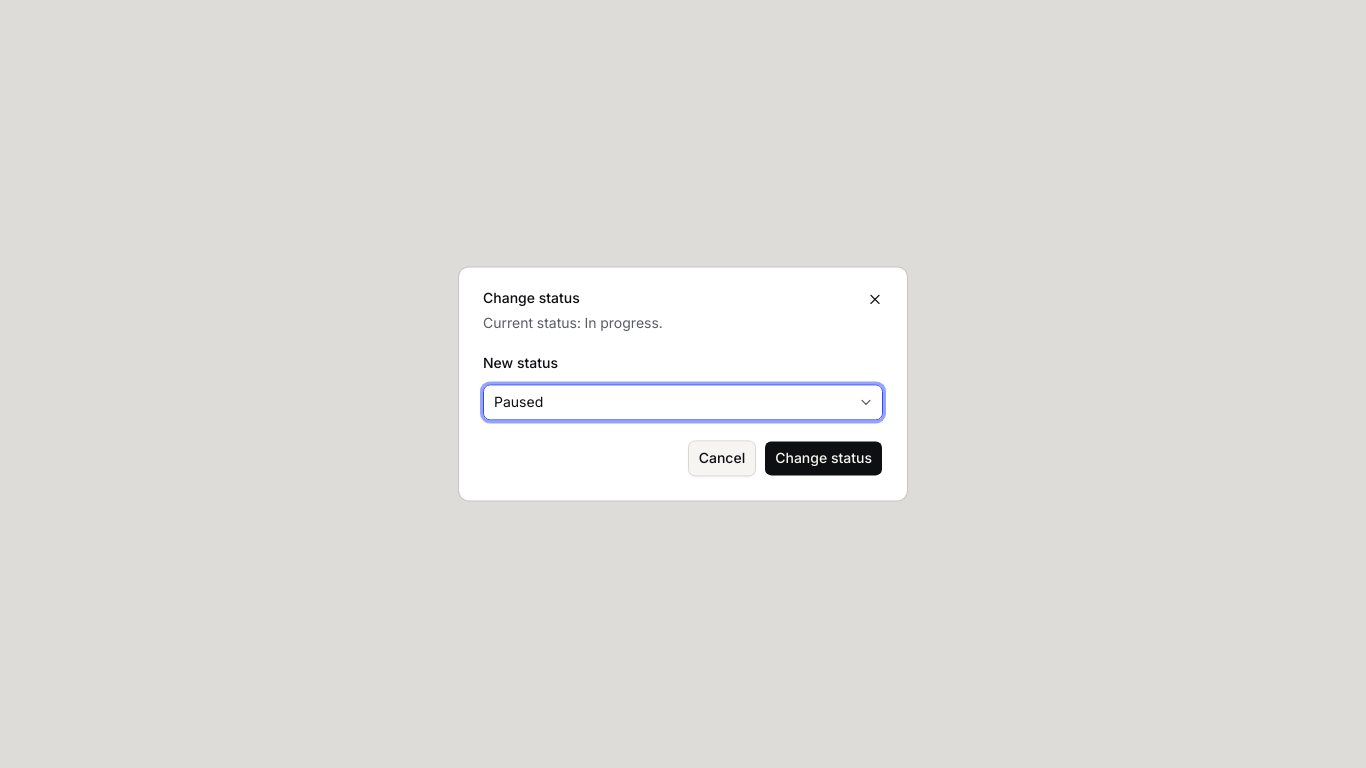
it: ProjectTransitionDialog (HU-08) › requires the actual delivery date to move to Delivered (CA2)
Click the dropdown. click: {"x": 519, "y": 402}
box: [483,385,883,421]
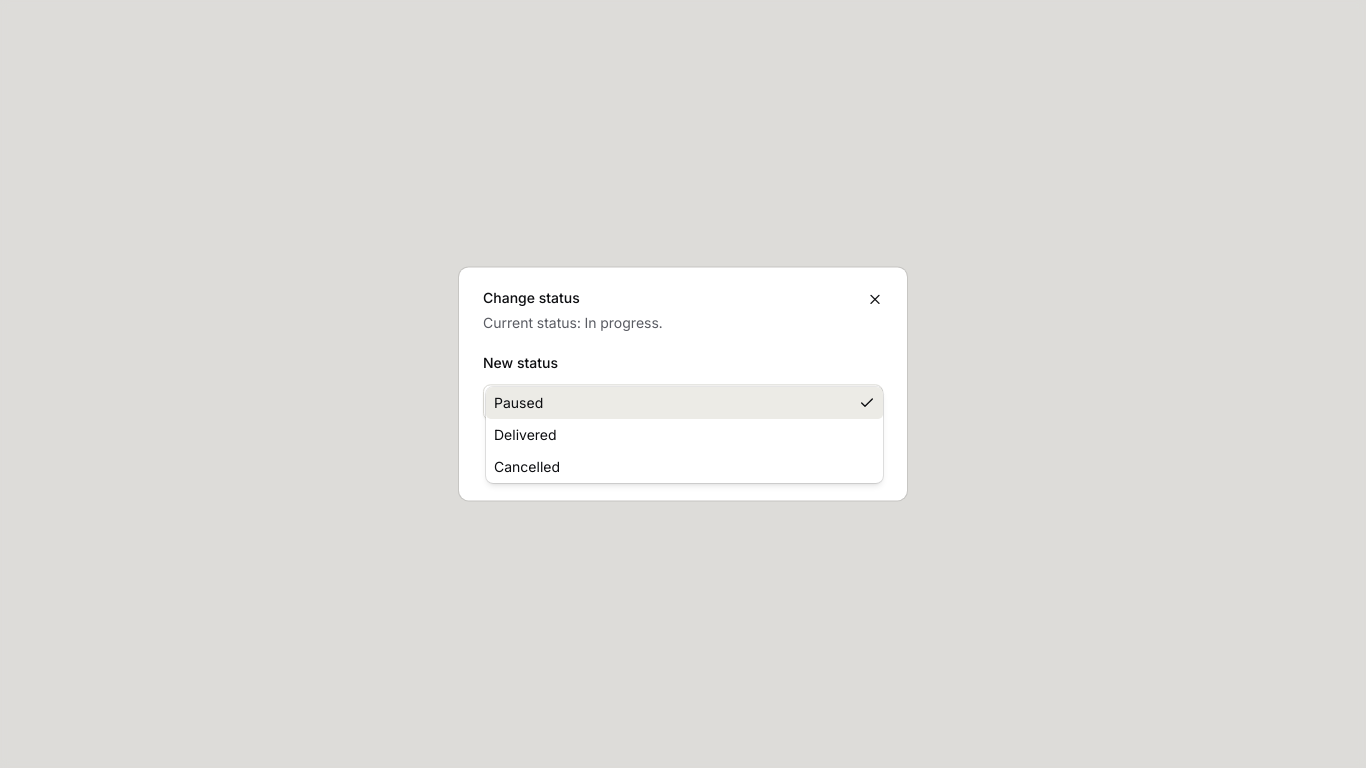
Click the option "Delivered". click: {"x": 525, "y": 434}
box: [494,426,557,443]
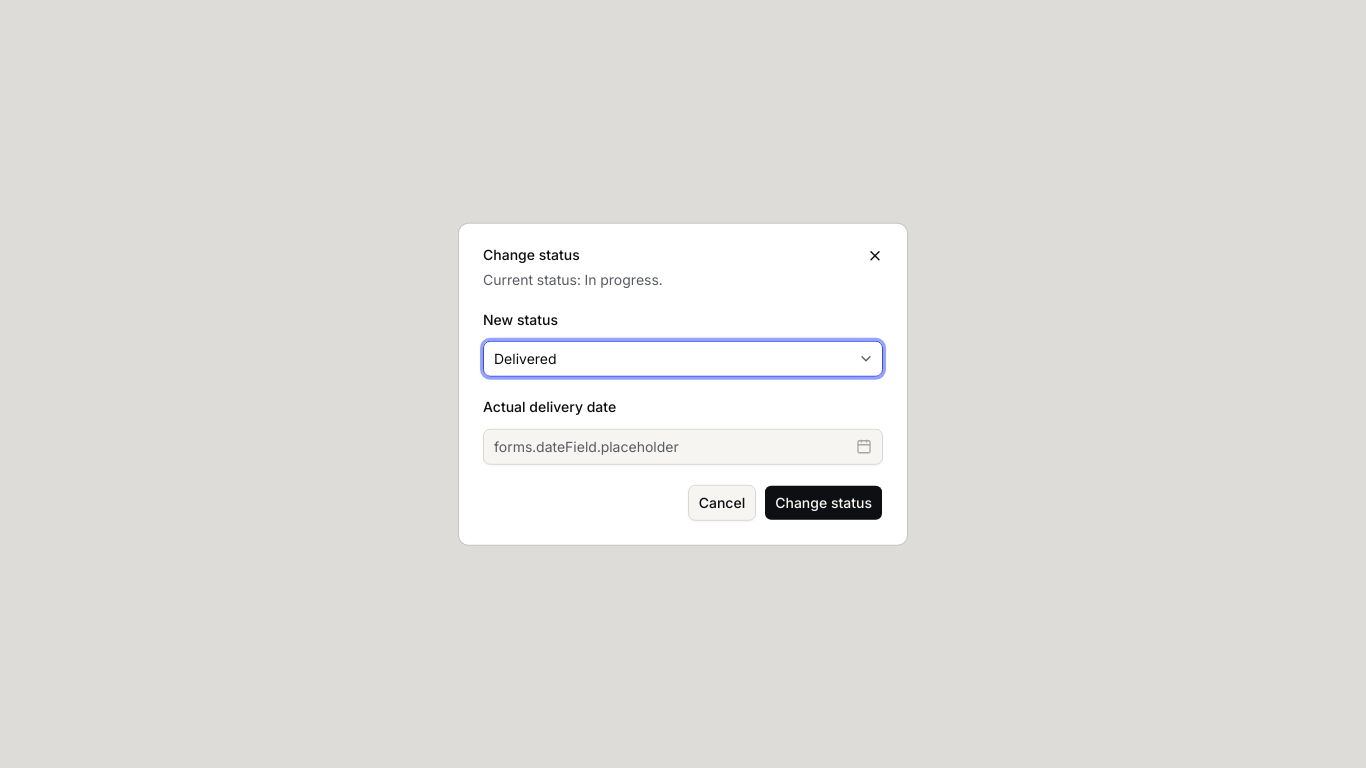
Click the button "Change status". click: {"x": 824, "y": 502}
box: [764,484,883,520]
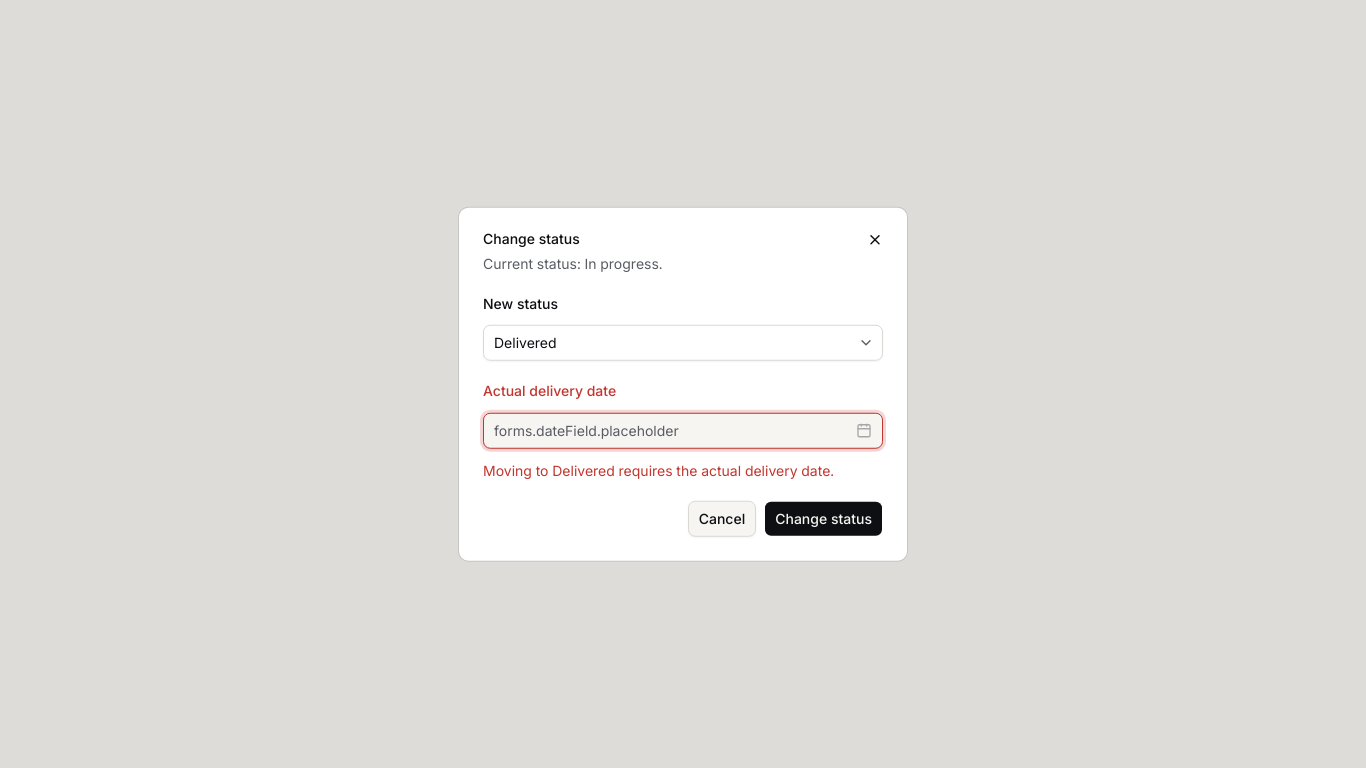
Result: the text "Moving to Delivered requires the actual delivery date." is shown at [483,460,883,480]
